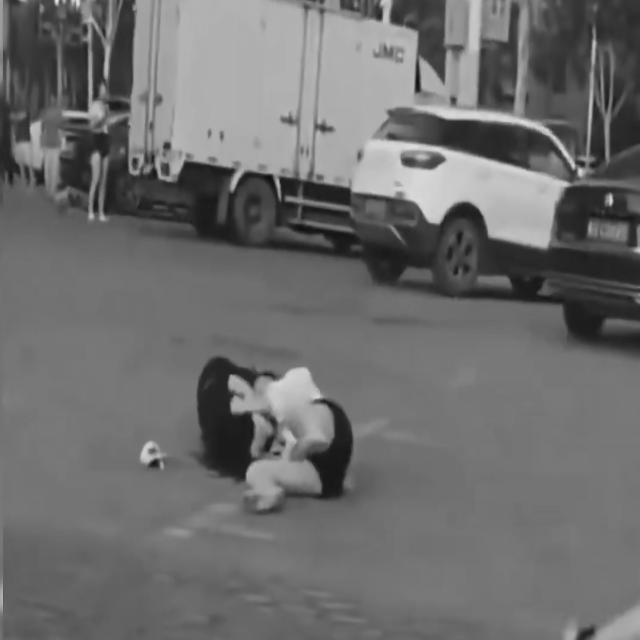fight: (200, 348, 354, 504)
nofight: (84, 74, 112, 235)
